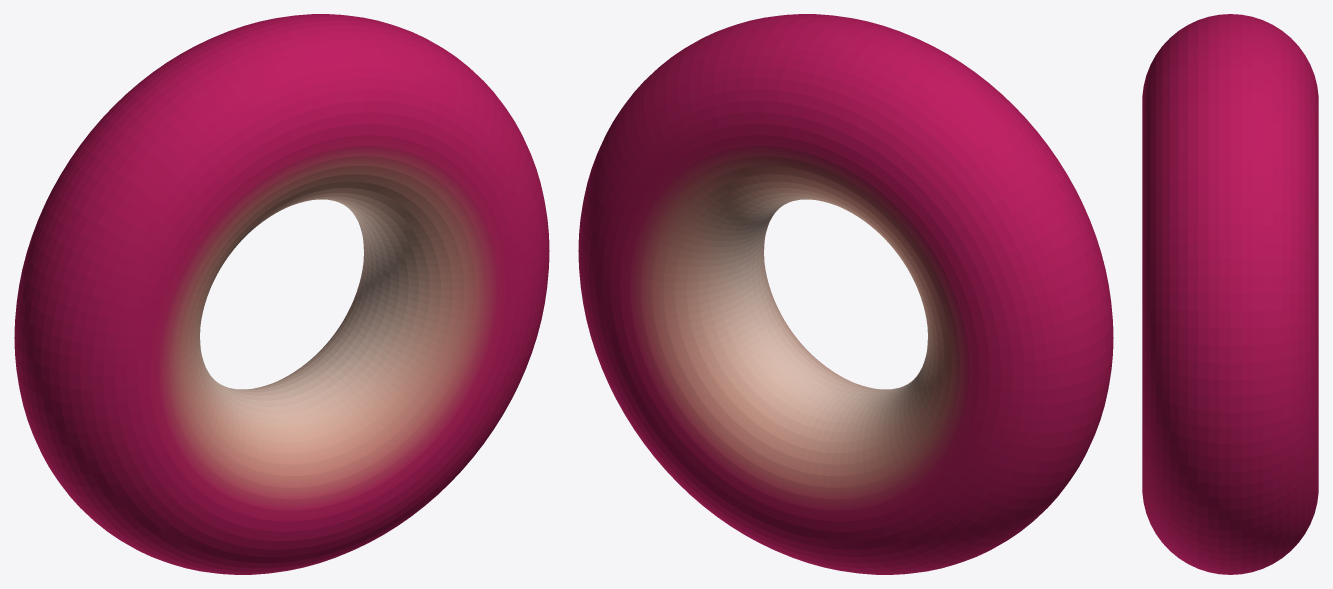
3 renders of one model, left to right at view 1: azimuth 30°, elevation 25°; view 2: azimuth 150°, elevation 25°; view 3: azimuth 270°, elevation 25°, orthographic. The views are drawn at different scales.
Visible parts, largest first — view 1: world; view 2: world; view 3: world.
Part boxes in pixels (x1=…): world: x1=14, y1=14, x2=549, y2=574; world: x1=578, y1=14, x2=1113, y2=574; world: x1=1142, y1=14, x2=1318, y2=574.
Bounding box in the file's own units: 29.2 × 29.2 × 9.18.
